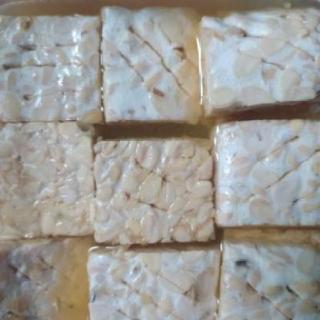Tempe: (90, 135, 219, 246), (99, 5, 205, 130)
